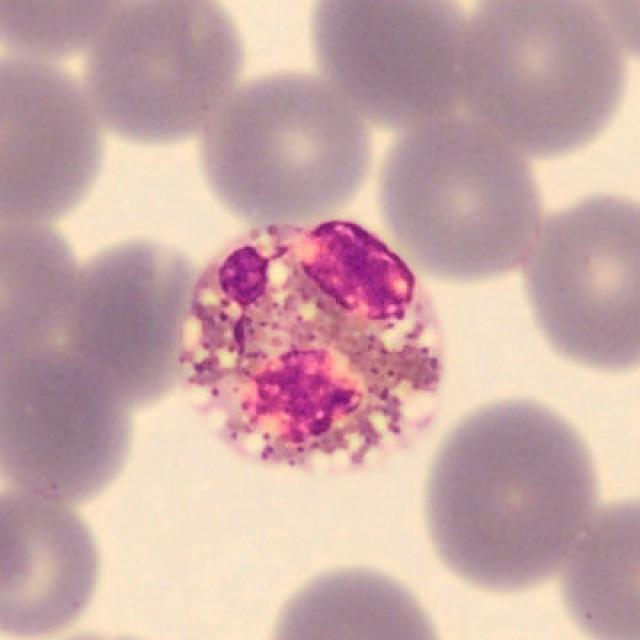Eosinofilo: (176, 222, 444, 478)
